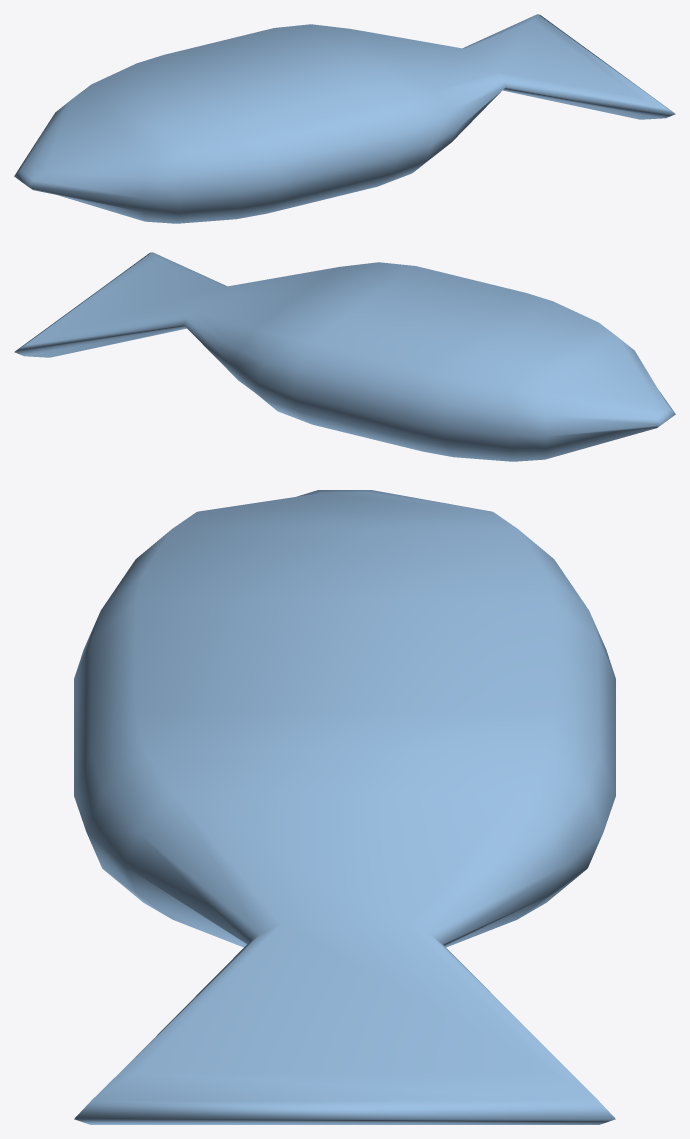
Rendered from PSKfish.FBX.
3 views of the same model, one above another, from view 1: azimuth 30°, elevation 25°; view 2: azimuth 150°, elevation 25°; view 3: azimuth 270°, elevation 25° (orthographic). The views are drawn at different scales.
Visible parts, largest first — view 1: PSKfish; view 2: PSKfish; view 3: PSKfish.
Part boxes in pixels (x1=…): PSKfish: x1=14, y1=14, x2=675, y2=223; PSKfish: x1=14, y1=252, x2=675, y2=461; PSKfish: x1=74, y1=490, x2=615, y2=1124.
Bounding box in the file's own units: 0.75 × 0.0998 × 0.3.
